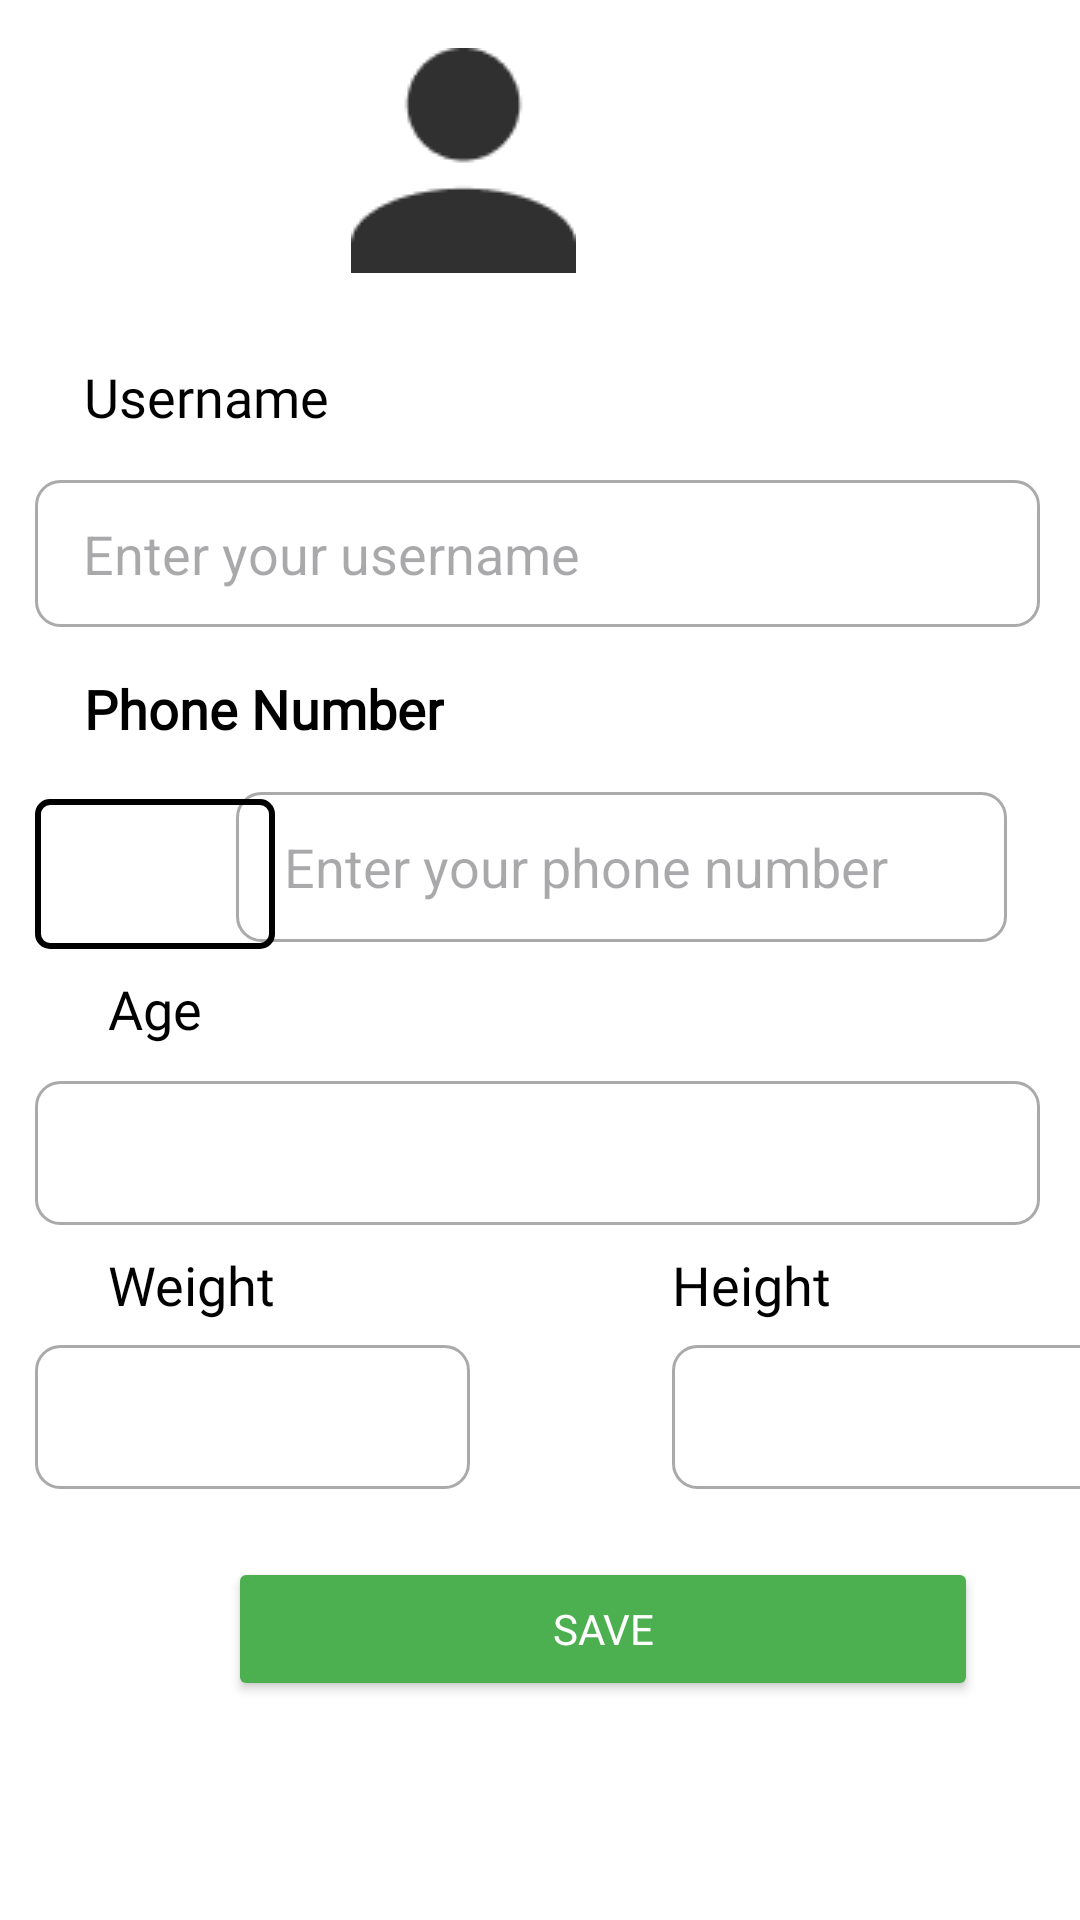

Locate icon controls on the screen. Image size 1080px×1920px, boxes as (x1, y1, x2, y2).
profile: (351, 48, 576, 273)
